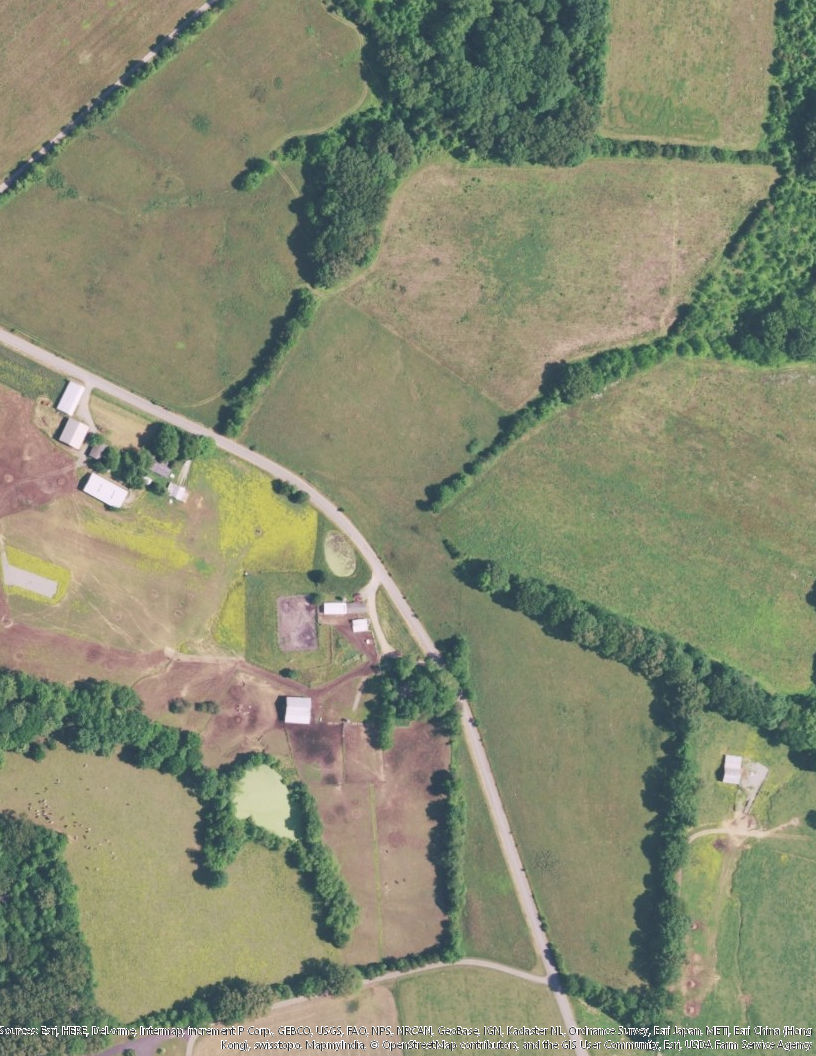cafo: (318, 600, 373, 634)
